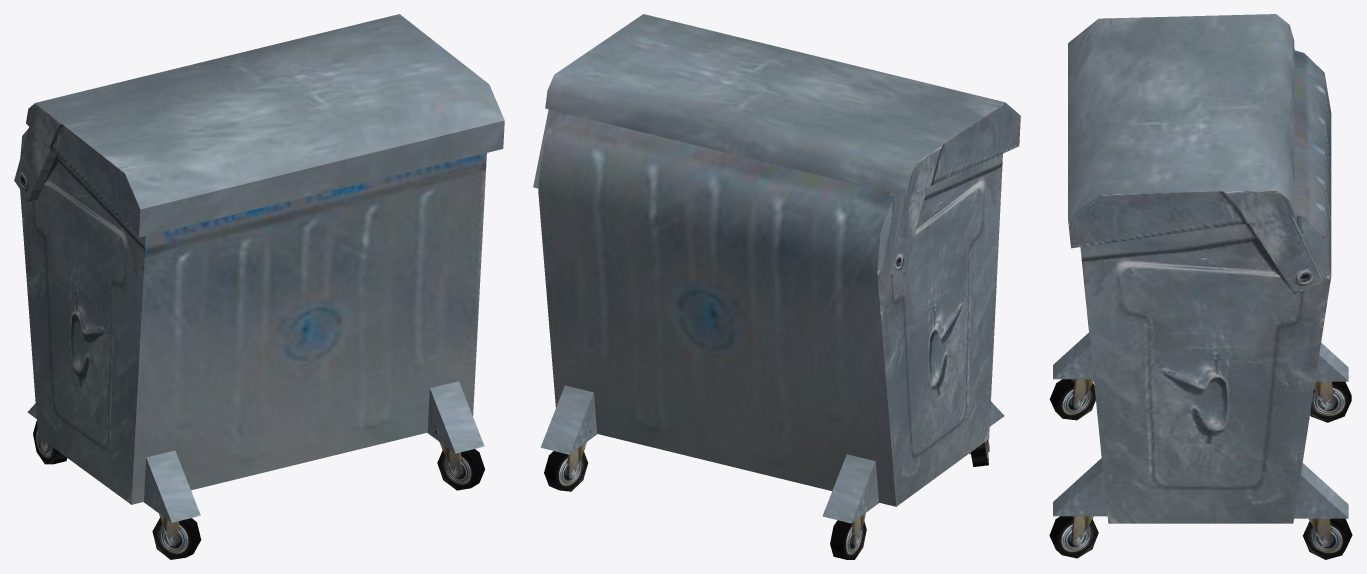
The model's file is trash_can_01.FBX.
The picture shows the model from 3 angles, left to right: view 1: azimuth 30°, elevation 25°; view 2: azimuth 150°, elevation 25°; view 3: azimuth 270°, elevation 25°; orthographic projection.
Parts seen in each view (by area): view 1: trash_can_01; view 2: trash_can_01; view 3: trash_can_01.
Part boxes in pixels (x1,y1,x2,y2): trash_can_01: (14,14,504,559); trash_can_01: (533,14,1020,559); trash_can_01: (1049,14,1352,559).
Bounding box in the file's own units: 47 × 48.07 × 34.21.
Materials: 1 (1 with a texture image).
